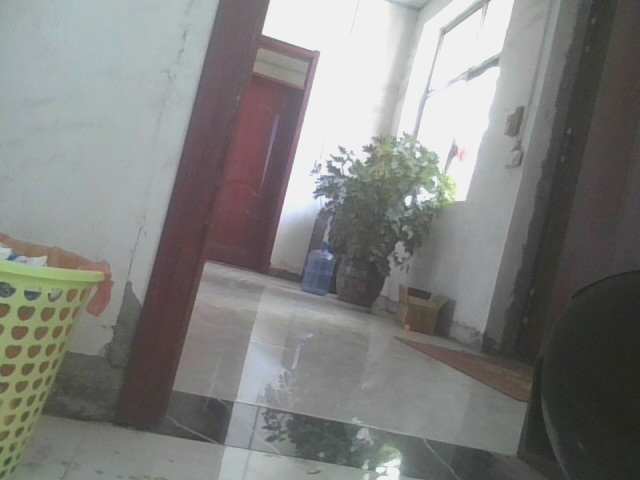ball: (403, 322, 409, 328)
